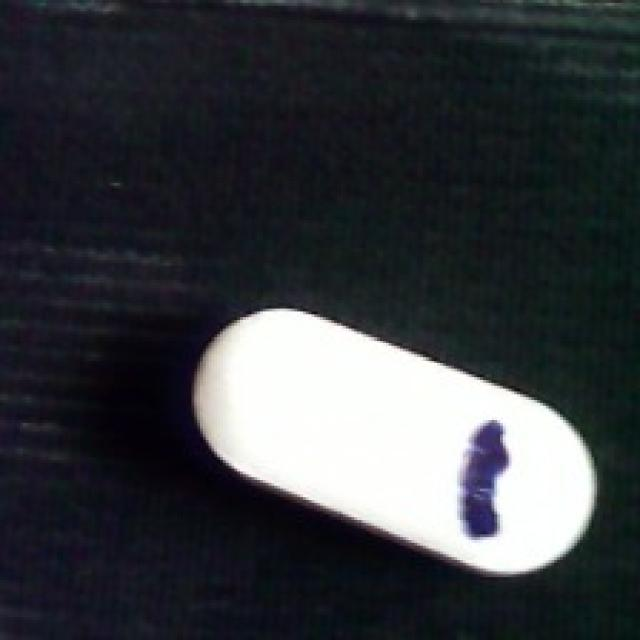defected: (183, 306, 603, 574)
